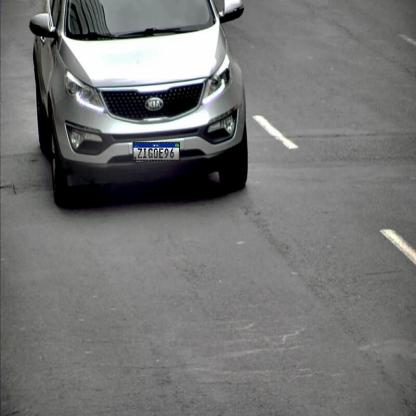PlacaM: (133, 142, 180, 161)
